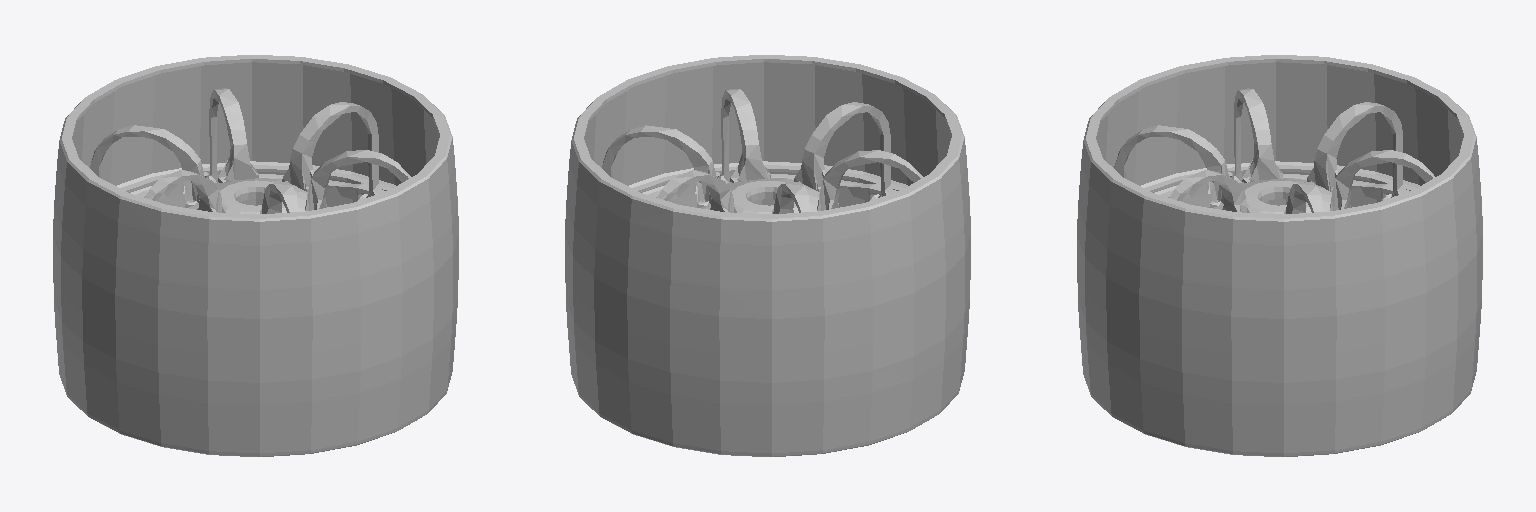
The model's file is Wheel_Col_Right.obj.
3 renders of one model, left to right at view 1: azimuth 30°, elevation 25°; view 2: azimuth 150°, elevation 25°; view 3: azimuth 270°, elevation 25°, orthographic.
Visible parts, largest first — view 1: Wheel_RightFront.obj; view 2: Wheel_RightFront.obj; view 3: Wheel_RightFront.obj.
Part boxes in pixels (x1,y1,x2,y2): Wheel_RightFront.obj: (53, 55, 458, 456); Wheel_RightFront.obj: (565, 55, 970, 456); Wheel_RightFront.obj: (1077, 55, 1482, 456).
Bounding box in the file's own units: 0.5098 × 0.3306 × 0.5098.